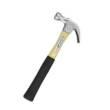hammer: (21, 10, 81, 102)
